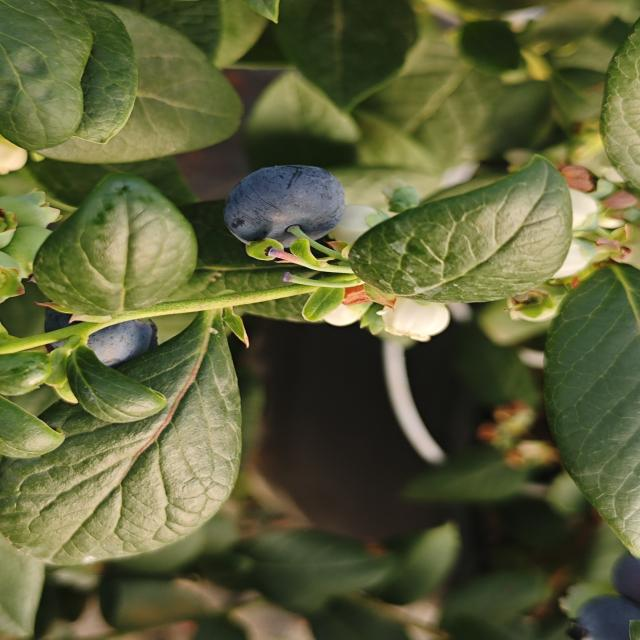ripe: (220, 162, 348, 253), (45, 316, 160, 370)
